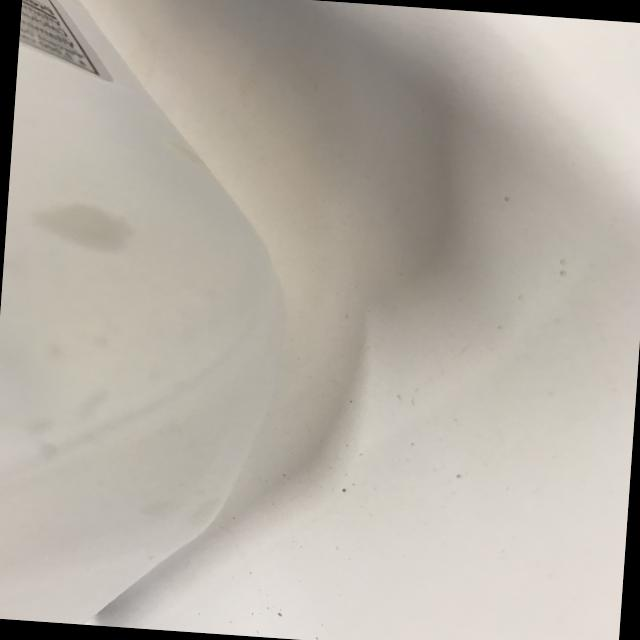Plastic: (0, 0, 359, 640)
